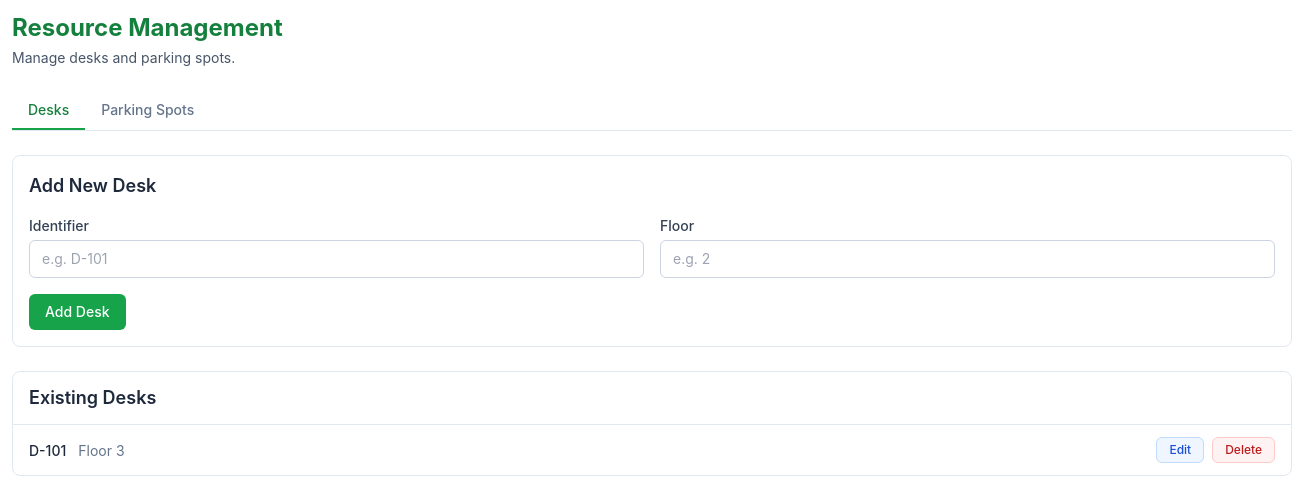
it: ResourceManagementPage › Desk CRUD operations › populates form when Edit is clicked
The image size is (1292, 493).
Check: the text "D-101" is shown, box top-left (29, 442), bottom-right (66, 459)
What coordinates should you click on to do the following:
click the button named "edit desk d-101"
I would click on:
 (1180, 450)
Its box is top-left (1156, 437), bottom-right (1204, 463).
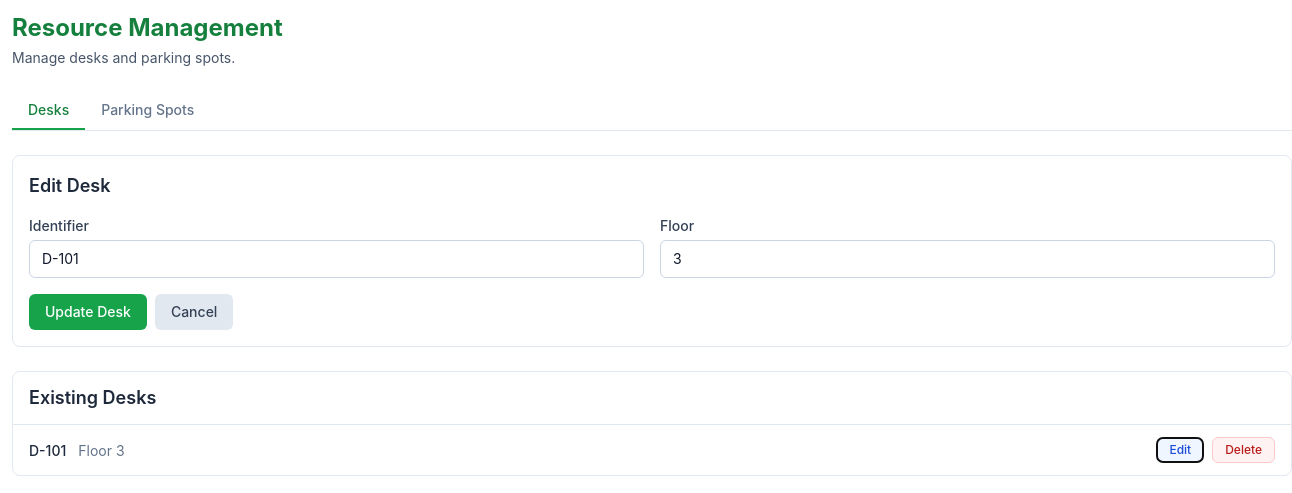
Check: the field labelled "Identifier" holds "D-101", box top-left (29, 240), bottom-right (644, 278)
Check: the field labelled "Floor" holds "3", box top-left (660, 240), bottom-right (1275, 278)
Check: the button "Update Desk" is shown, box top-left (29, 294), bottom-right (147, 330)
